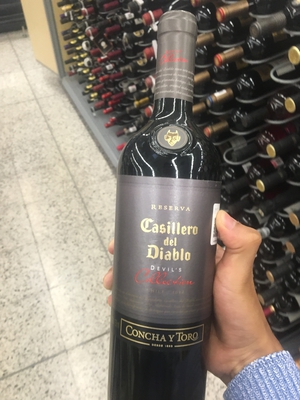casillero del diablo devils collection rojo: (109, 22, 219, 398)
